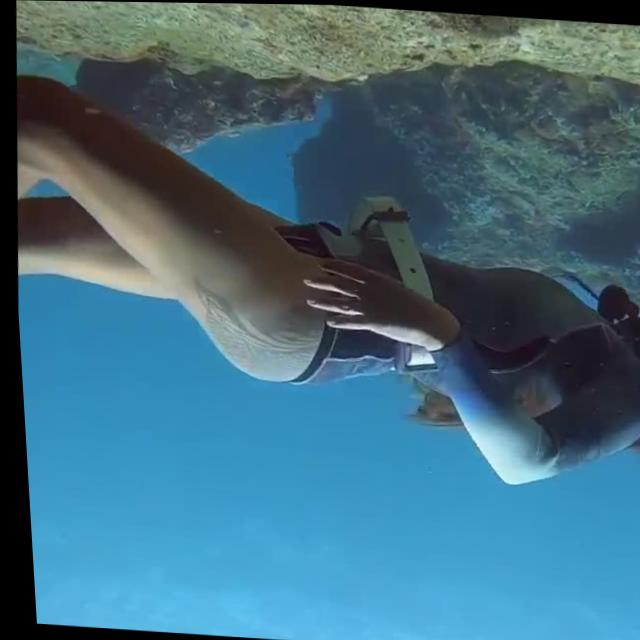human: (3, 62, 640, 538)
